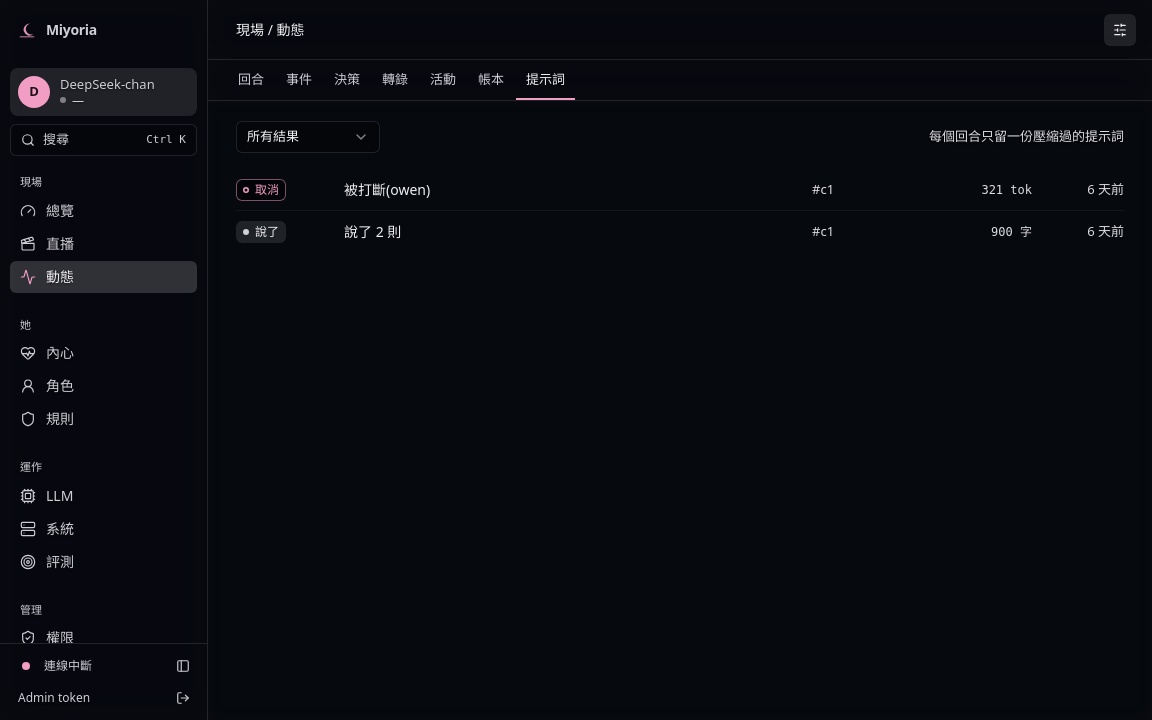
Test: Activity: the prompt of each turn › filters the turns by outcome
Expected: the text "說了 2 則" is shown, 344,222 -> 401,240
Click the dropdown labelled "結果".
click(308, 137)  # box 236,121 -> 380,153
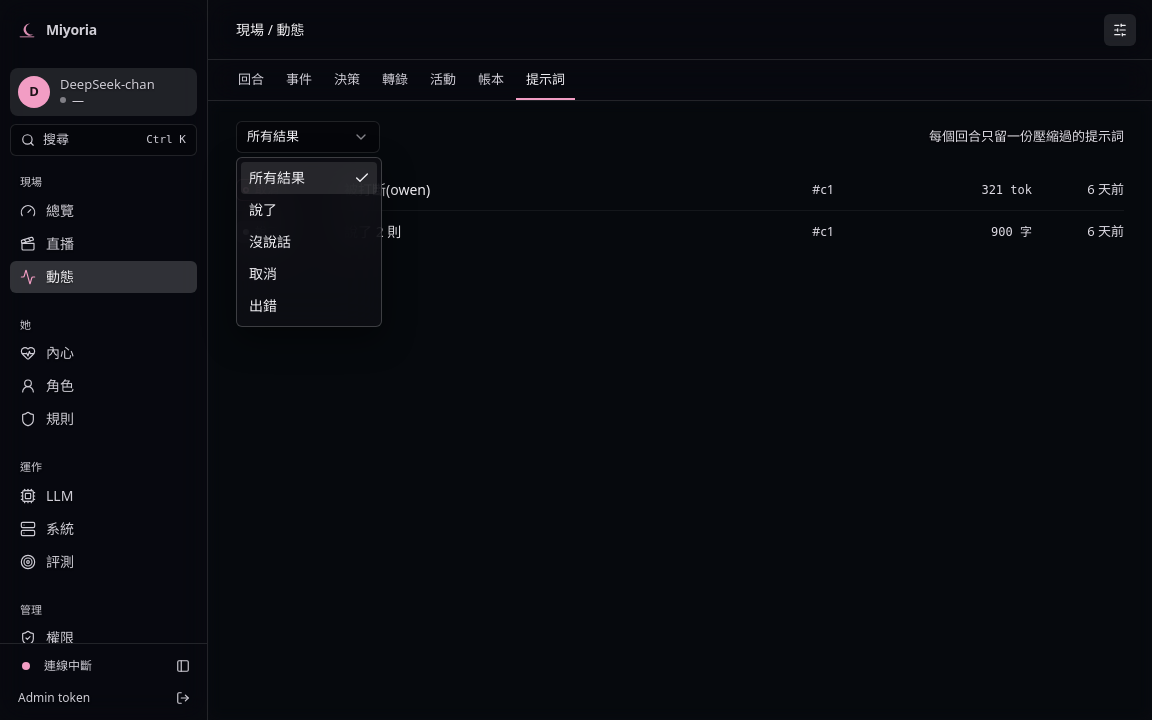
Click the option "取消".
click(263, 274)  # box 249,264 -> 277,283
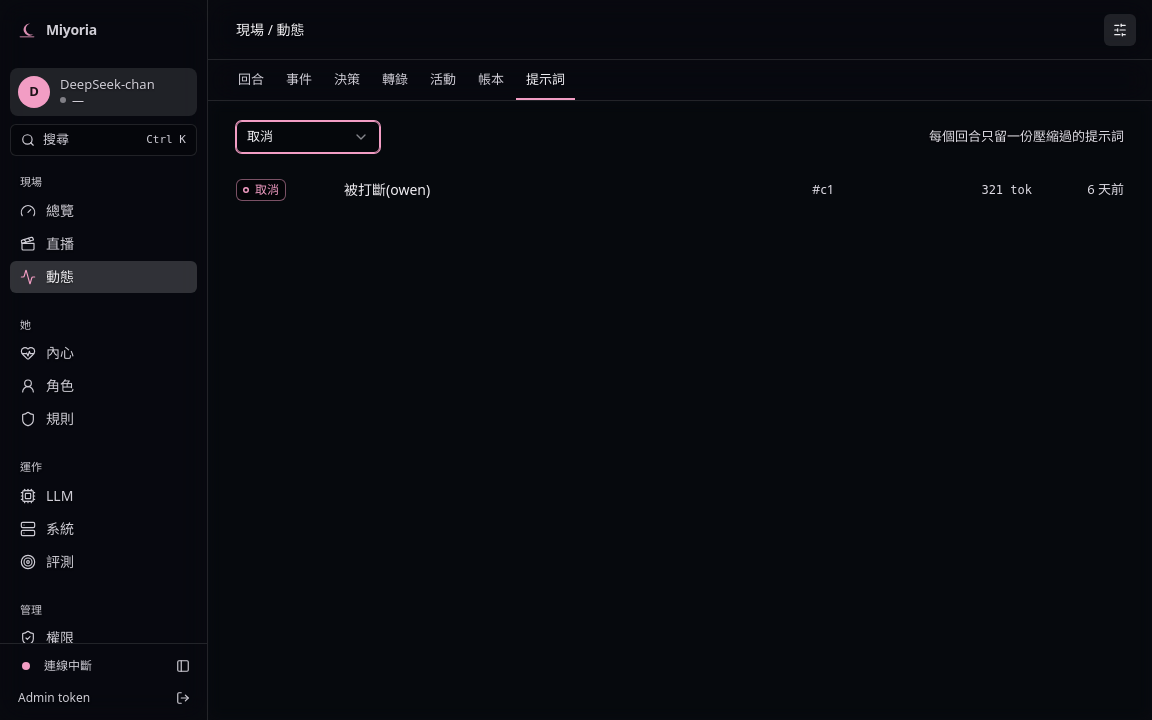
Expected: the text "被打斷(owen)" is shown, 344,180 -> 430,198
Now the button "說了 2 則" is gone
